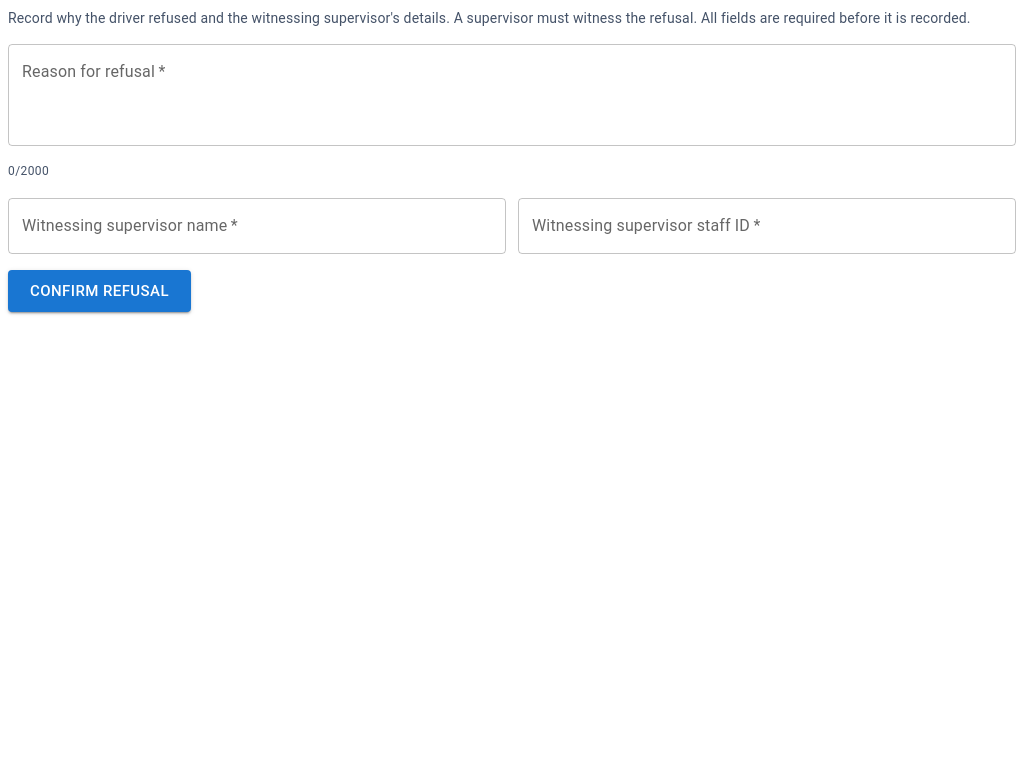
I-03 refusal form (SIG-04) › surfaces a validation error when a witness name is missing
Click the button with test id "refusal-confirm" at [100, 291], box top-left (8, 270), bottom-right (191, 312)
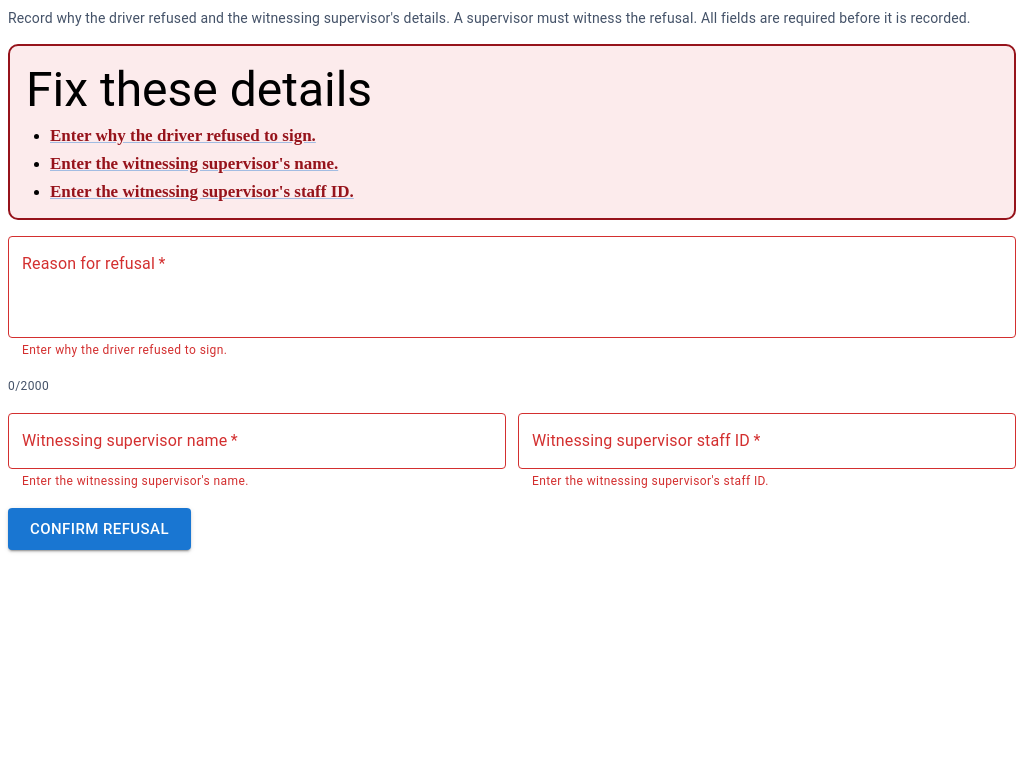
Check: the message shows "refused to sign", box top-left (50, 126), bottom-right (316, 145)
